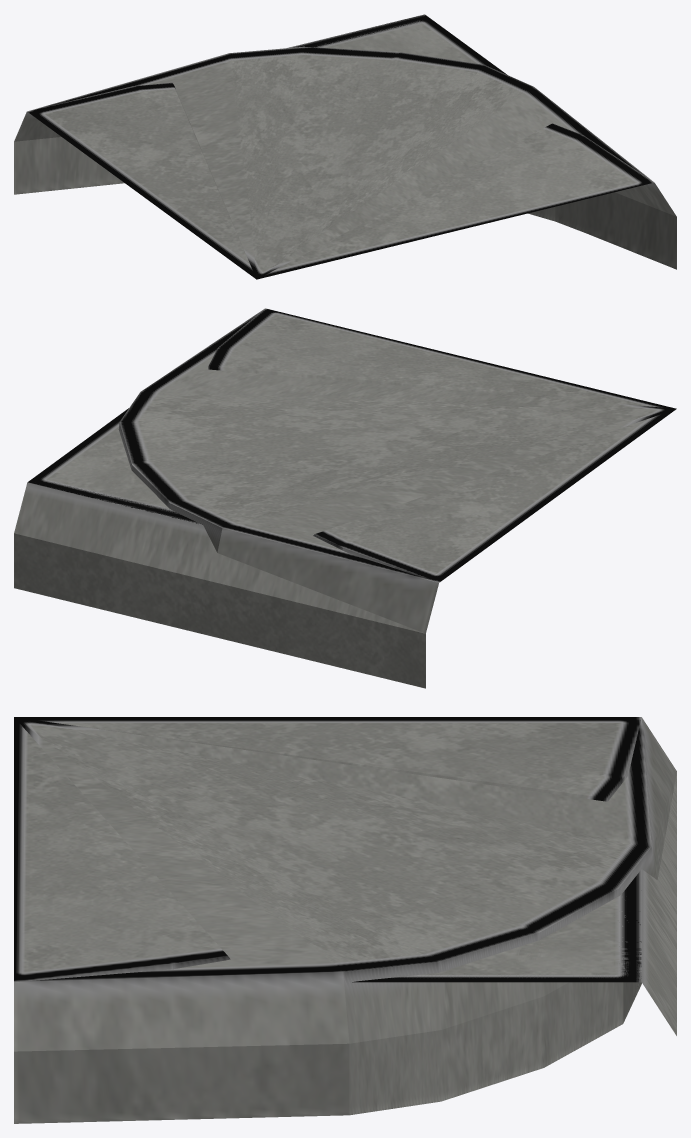
The model's file is sidewalks_meshModified.FBX.
3 views of the same model, one above another, from view 1: azimuth 30°, elevation 25°; view 2: azimuth 150°, elevation 25°; view 3: azimuth 270°, elevation 25° (orthographic). The views are drawn at different scales.
Visible parts, largest first — view 1: sidewalk_corner_curb, sidewalk_corner_ramp, sidewalk_curb, sidewalk; view 2: sidewalk_corner_curb, sidewalk_curb, sidewalk_corner_ramp, sidewalk; view 3: sidewalk_corner_curb, sidewalk_corner_ramp, sidewalk_curb, sidewalk.
Boxes of the visible parts, left/top/right/bottom form: sidewalk_corner_curb: left=29, top=46, right=651, bottom=279; sidewalk_corner_ramp: left=14, top=82, right=676, bottom=279; sidewalk_curb: left=286, top=14, right=506, bottom=74; sidewalk: left=298, top=15, right=505, bottom=73; sidewalk_corner_curb: left=118, top=309, right=676, bottom=633; sidewalk_curb: left=14, top=408, right=425, bottom=688; sidewalk_corner_ramp: left=208, top=308, right=676, bottom=582; sidewalk: left=27, top=408, right=198, bottom=523; sidewalk_corner_curb: left=14, top=717, right=676, bottom=1123; sidewalk_corner_ramp: left=14, top=717, right=641, bottom=982; sidewalk_curb: left=352, top=772, right=676, bottom=1035; sidewalk: left=369, top=911, right=641, bottom=982.
Size of the model in its own units: 106 by 24.08 by 106.
